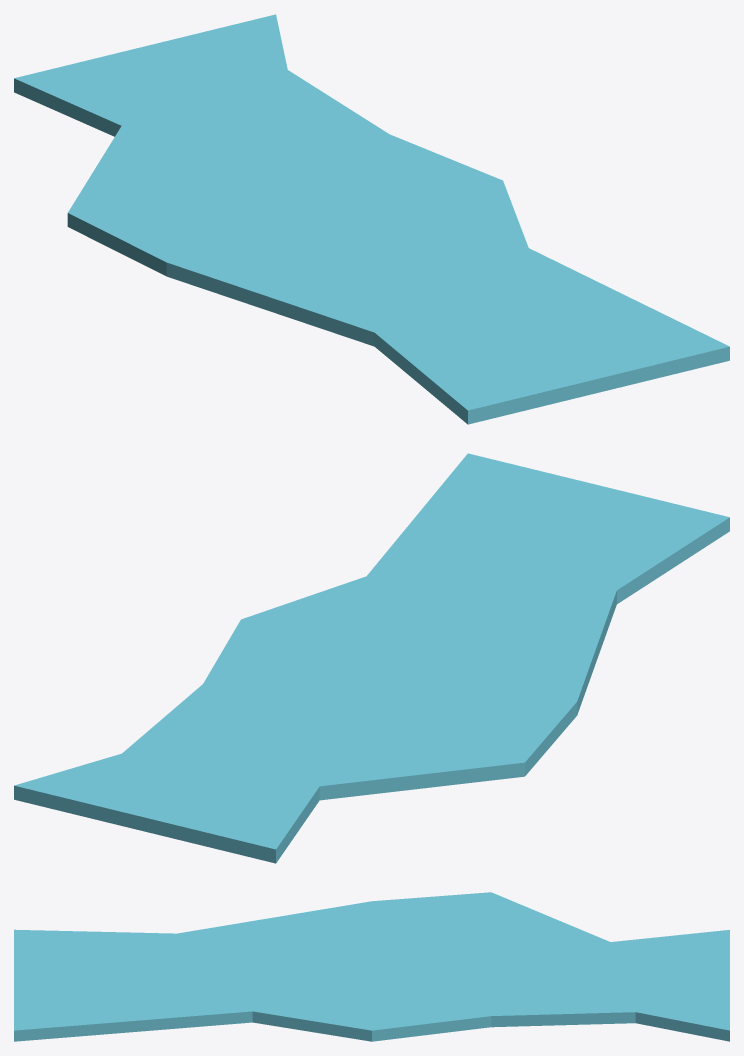
File: WaterTwoStraight.fbx
3 views of the same model, one above another, from view 1: azimuth 30°, elevation 25°; view 2: azimuth 150°, elevation 25°; view 3: azimuth 270°, elevation 25° (orthographic). The views are drawn at different scales.
Visible parts, largest first — view 1: WaterTwoStraight; view 2: WaterTwoStraight; view 3: WaterTwoStraight.
Part boxes in pixels (box(x1,y1,x2,y2)): WaterTwoStraight: box(14, 14, 729, 424); WaterTwoStraight: box(14, 453, 729, 863); WaterTwoStraight: box(14, 892, 729, 1041).
Bounding box in the file's own units: 156 × 5.82 × 340.
